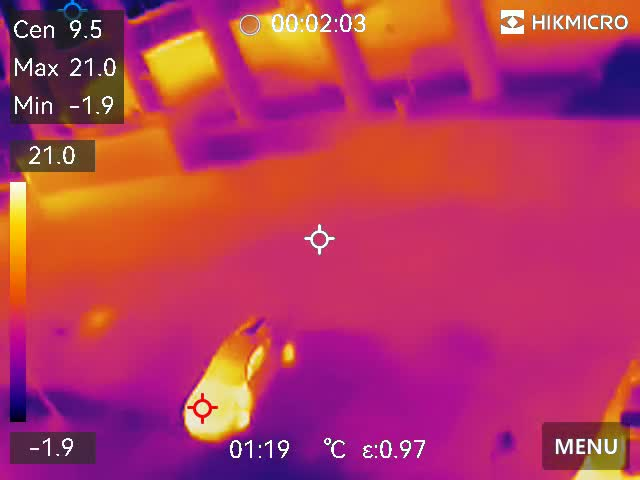vehicle: (173, 310, 304, 446)
